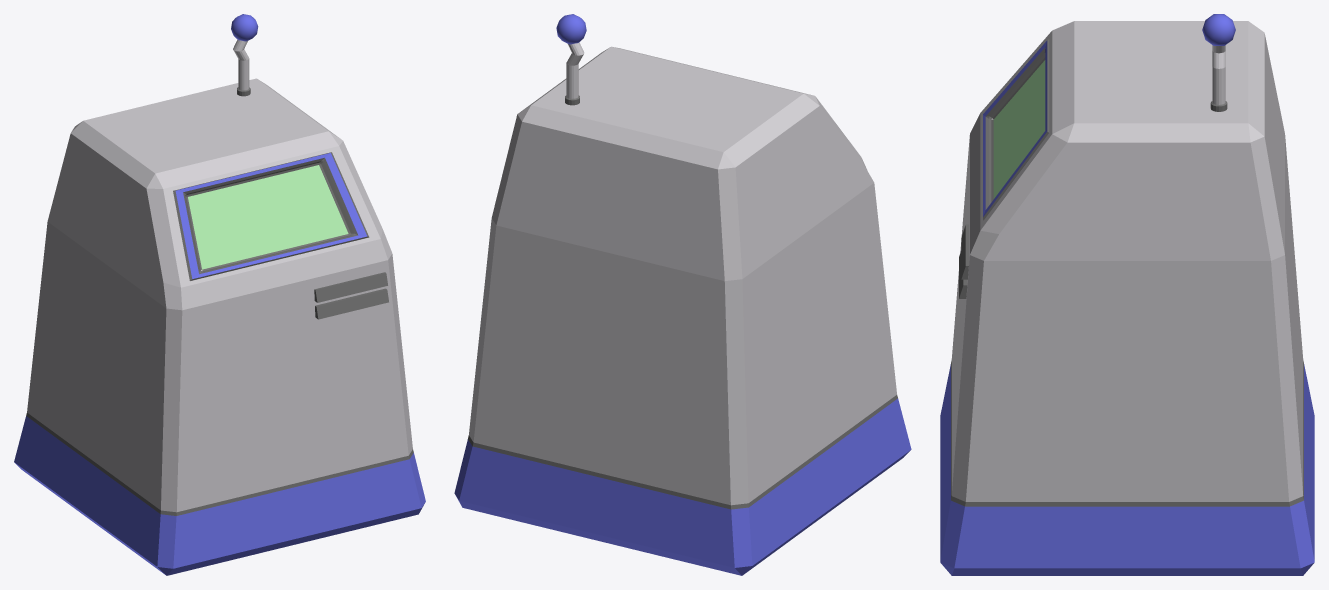
The model's file is botSimple.fbx.
3 views of the same model, side by side, from view 1: azimuth 30°, elevation 25°; view 2: azimuth 150°, elevation 25°; view 3: azimuth 270°, elevation 25° (orthographic). The views are drawn at different scales.
Parts seen in each view (by area): view 1: Bot - Simple; view 2: Bot - Simple; view 3: Bot - Simple.
Part boxes in pixels (box(x1,y1,x2,y2)): Bot - Simple: box(14, 14, 425, 575); Bot - Simple: box(454, 14, 911, 575); Bot - Simple: box(940, 14, 1314, 575).
Bounding box in the file's own units: 82.85 × 82.85 × 128.
